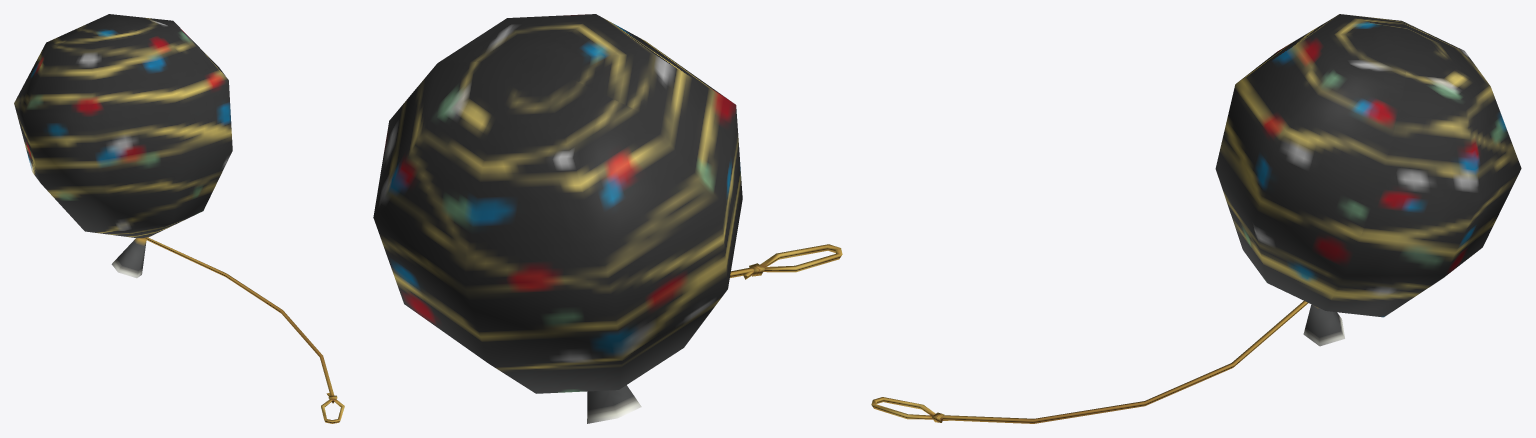
File: jsf_WaterBalloon_03_e.fbx
3 views of the same model, side by side, from view 1: azimuth 30°, elevation 25°; view 2: azimuth 150°, elevation 25°; view 3: azimuth 270°, elevation 25° (orthographic). The views are drawn at different scales.
Visible parts, largest first — view 1: jsf_WaterBalloon_03_e; view 2: jsf_WaterBalloon_03_e; view 3: jsf_WaterBalloon_03_e.
Part boxes in pixels (left/top/right/bottom): jsf_WaterBalloon_03_e: left=14, top=14, right=344, bottom=423; jsf_WaterBalloon_03_e: left=373, top=14, right=842, bottom=423; jsf_WaterBalloon_03_e: left=871, top=14, right=1521, bottom=423.
Size of the model in its own units: 10.92 by 14.38 by 23.6.
